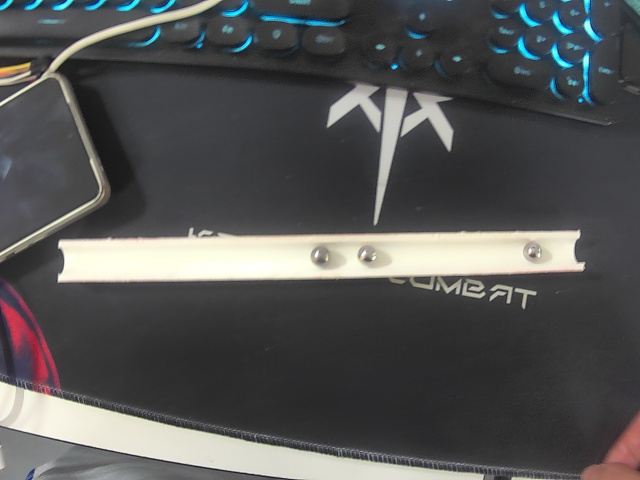steelball: (310, 246, 330, 267), (357, 245, 378, 265), (522, 241, 541, 263)
